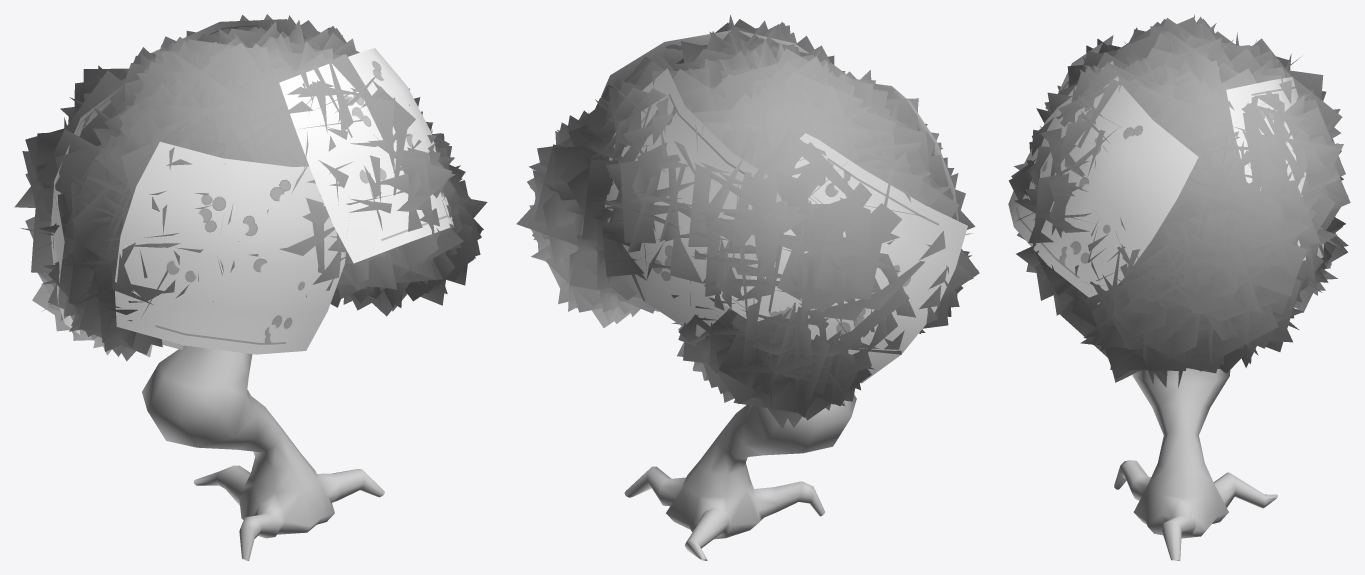
The model's file is hgs_zs09.fbx.
3 views of the same model, side by side, from view 1: azimuth 30°, elevation 25°; view 2: azimuth 150°, elevation 25°; view 3: azimuth 270°, elevation 25° (orthographic). The views are drawn at different scales.
Parts seen in each view (by area): view 1: yz01, yz02, sg01; view 2: yz01, yz02, sg01; view 3: yz01, yz02, sg01.
Boxes of the visible parts, x1=… form: yz01: x1=14, y1=14, x2=487, y2=361; yz02: x1=50, y1=19, x2=453, y2=354; sg01: x1=142, y1=345, x2=384, y2=560; yz01: x1=516, y1=15, x2=979, y2=428; yz02: x1=583, y1=30, x2=967, y2=383; sg01: x1=624, y1=394, x2=856, y2=560; yz01: x1=1008, y1=14, x2=1350, y2=387; yz02: x1=1008, y1=35, x2=1324, y2=304; sg01: x1=1114, y1=368, x2=1277, y2=560.
Bounding box in the file's own units: 0.0481 × 0.0555 × 0.0371.
